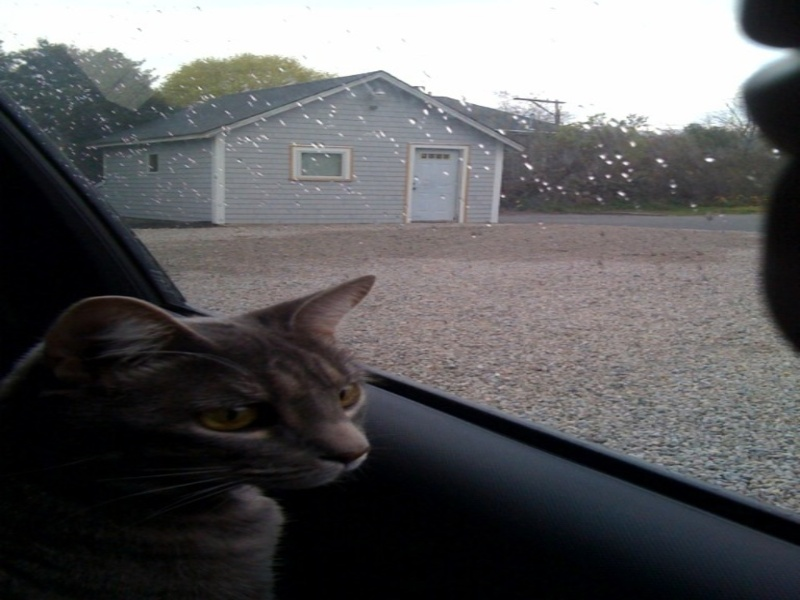cat: (9, 270, 383, 589)
